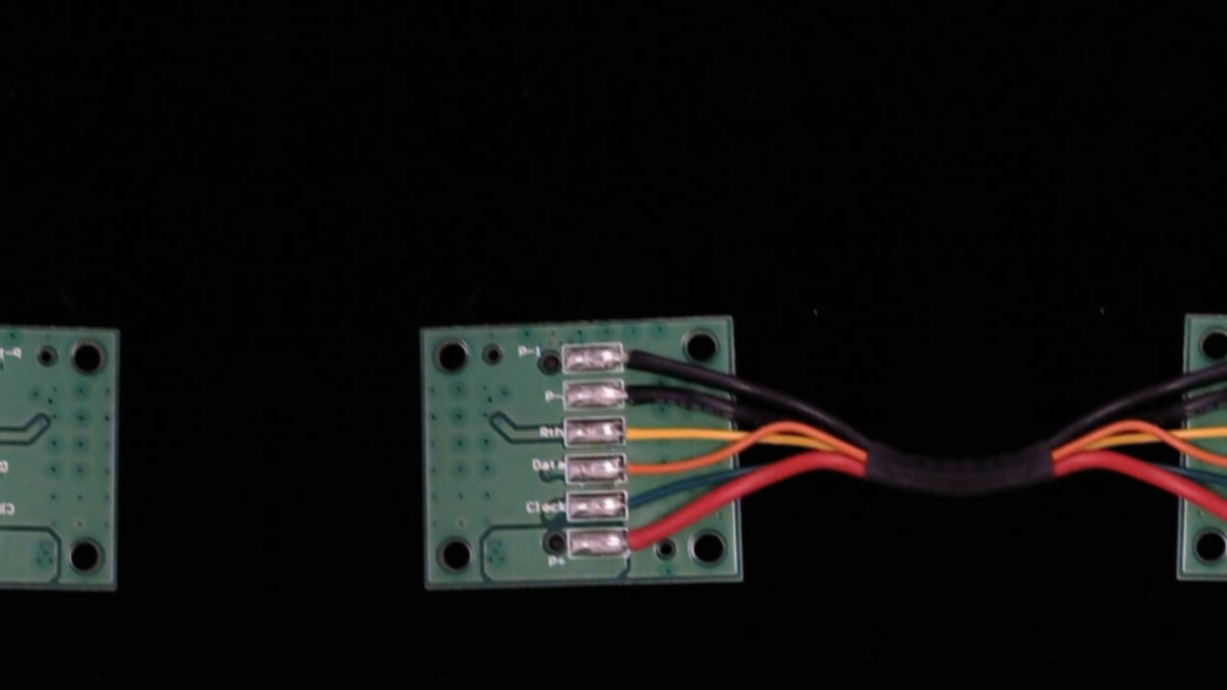Black: (609, 376, 679, 409)
Black1: (603, 337, 667, 369)
Green: (608, 487, 672, 520)
Orange: (610, 451, 679, 483)
Red: (611, 524, 678, 557)
Yellow: (606, 412, 677, 445)
